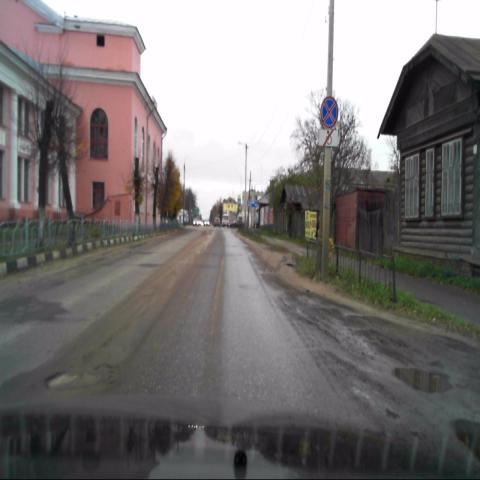8_18: (319, 130, 338, 147)
